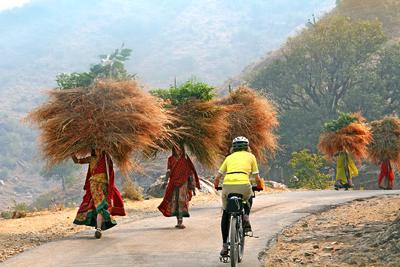With Helmet: (231, 134, 251, 152)
